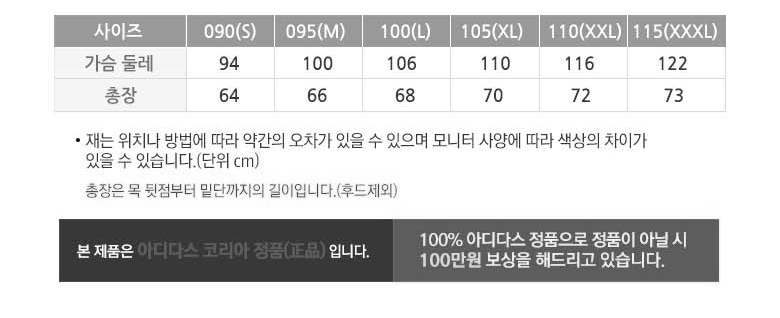table: (53, 16, 725, 113)
